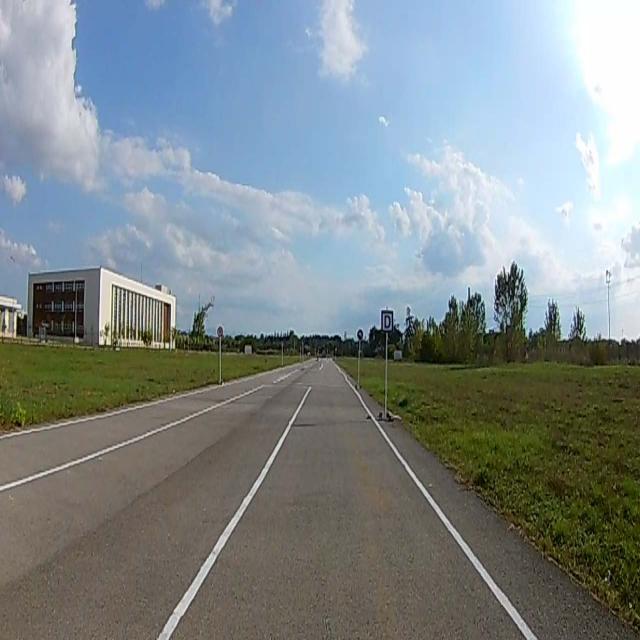durak: (382, 311, 392, 333)
